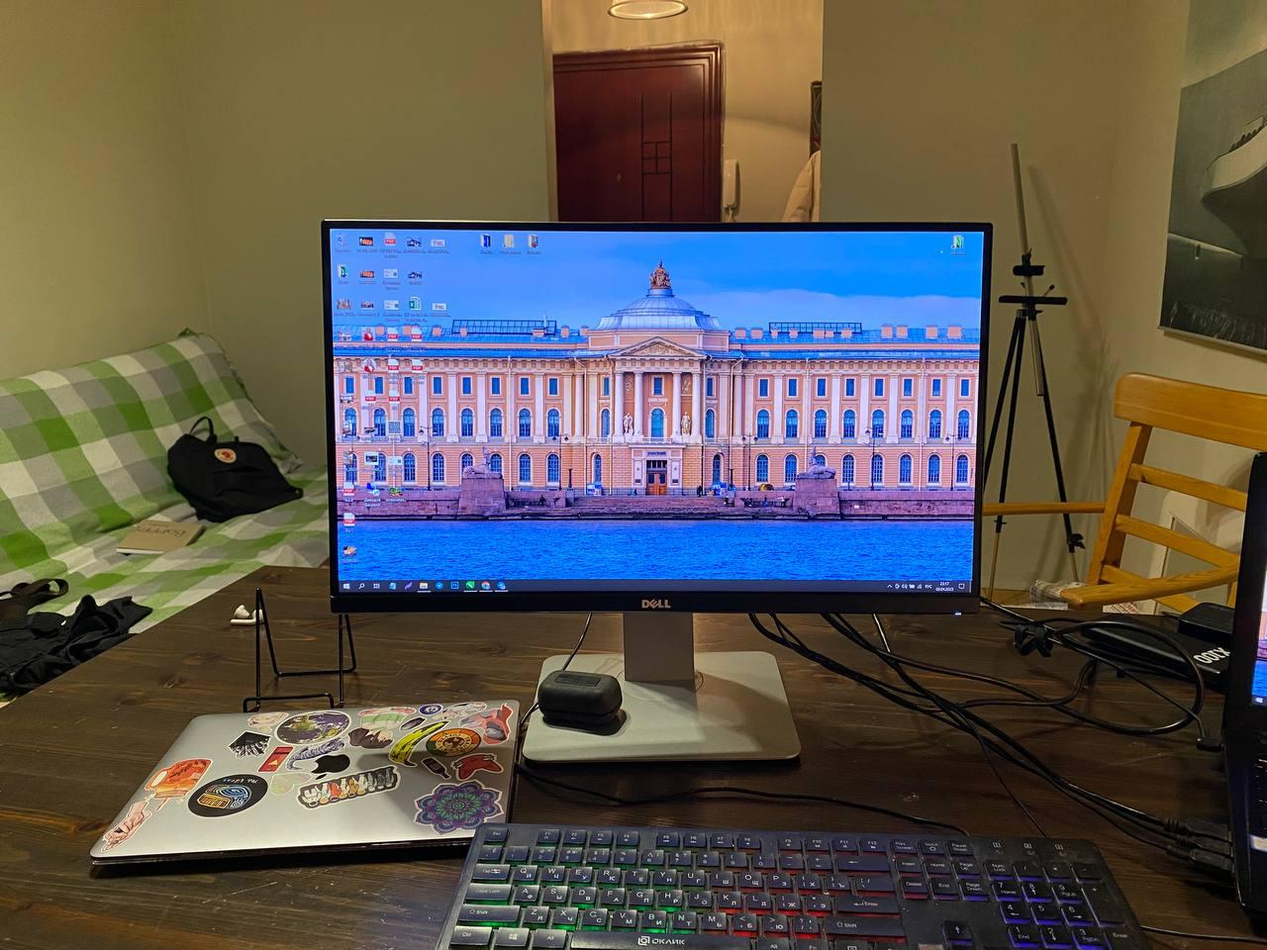monitor: (318, 219, 993, 618)
